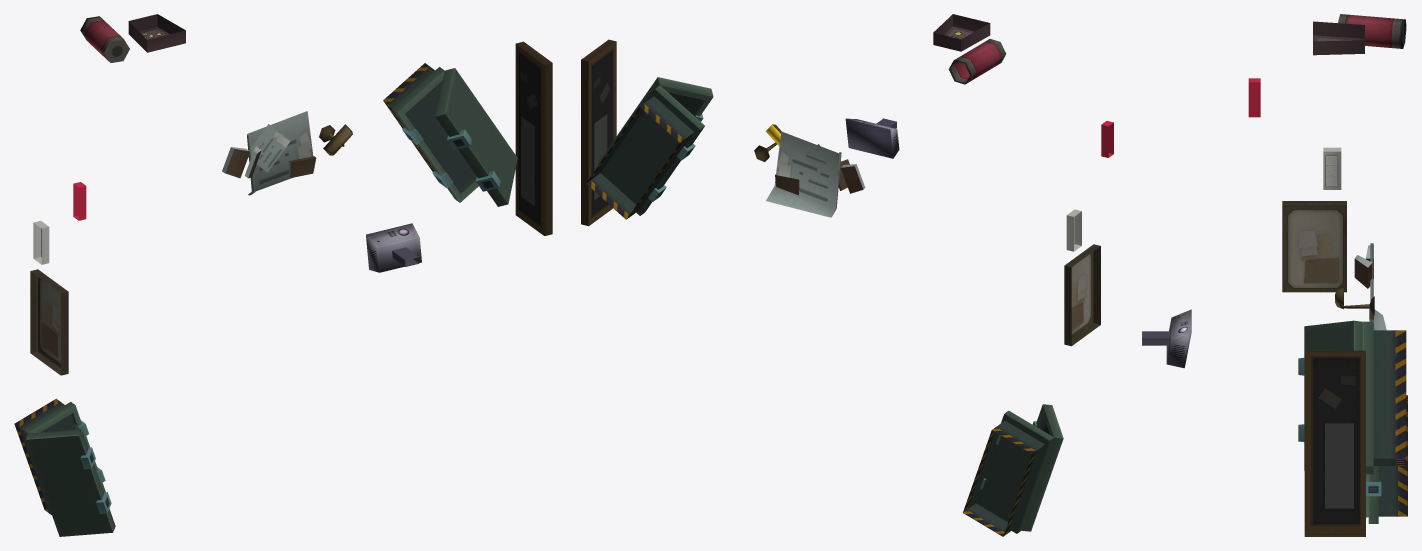
The model's file is Refuge_cddea96f__Refuge_diffuse_02_21171f75_c1f257.obj.
The picture shows the model from 3 angles, left to right: view 1: azimuth 30°, elevation 25°; view 2: azimuth 150°, elevation 25°; view 3: azimuth 270°, elevation 25°; orthographic projection. The views are drawn at different scales.
Size of the model in its own units: 11.45 by 10.84 by 4.94.
Materials: 1 (1 with a texture image).
